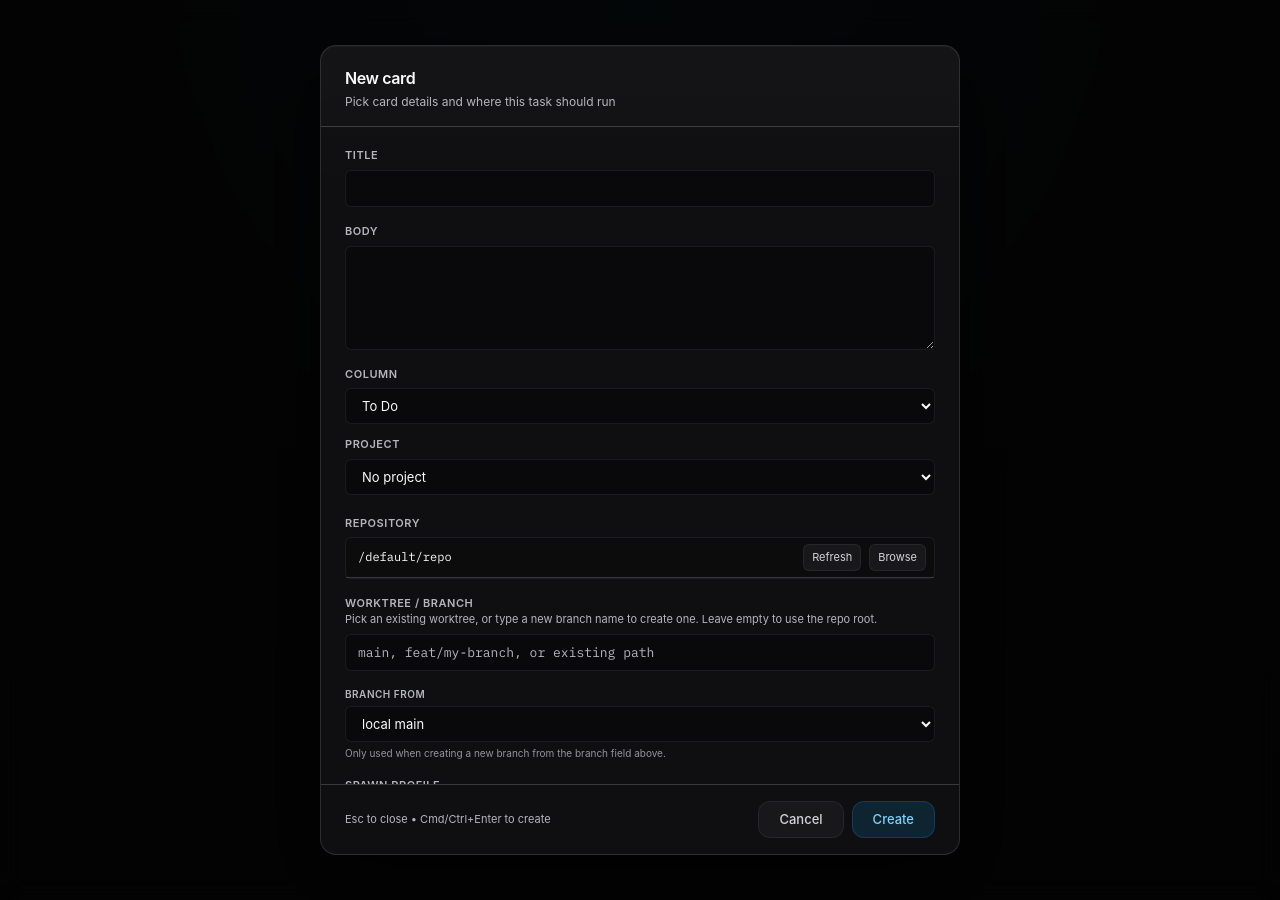
it: WorkItemEditor › loads repository picker options from discovered repos under configured roots
Clear the dropdown showing "/default/repo". click: (575, 557)
box: [354, 544, 795, 570]
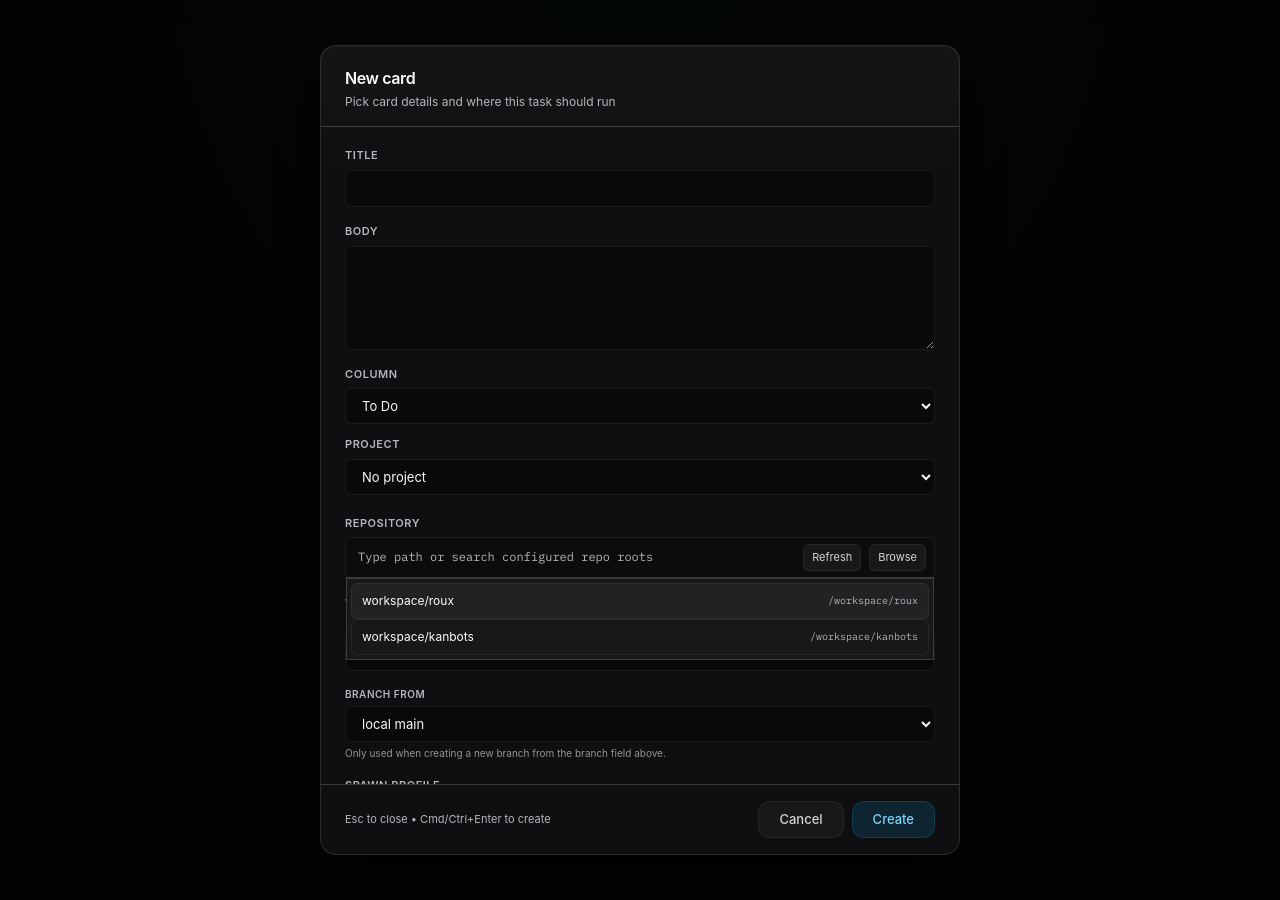
Expected: the text "workspace/roux" is shown, [362, 592, 454, 610]
